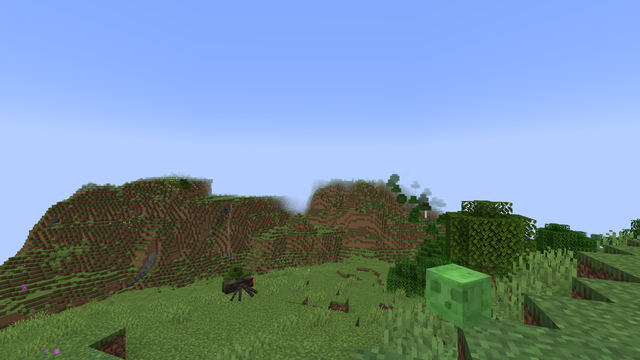araignees: (222, 272, 257, 300)
slimes: (432, 261, 487, 328)
